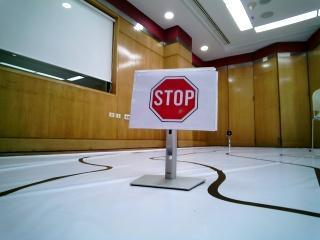stop: (138, 74, 207, 122)
